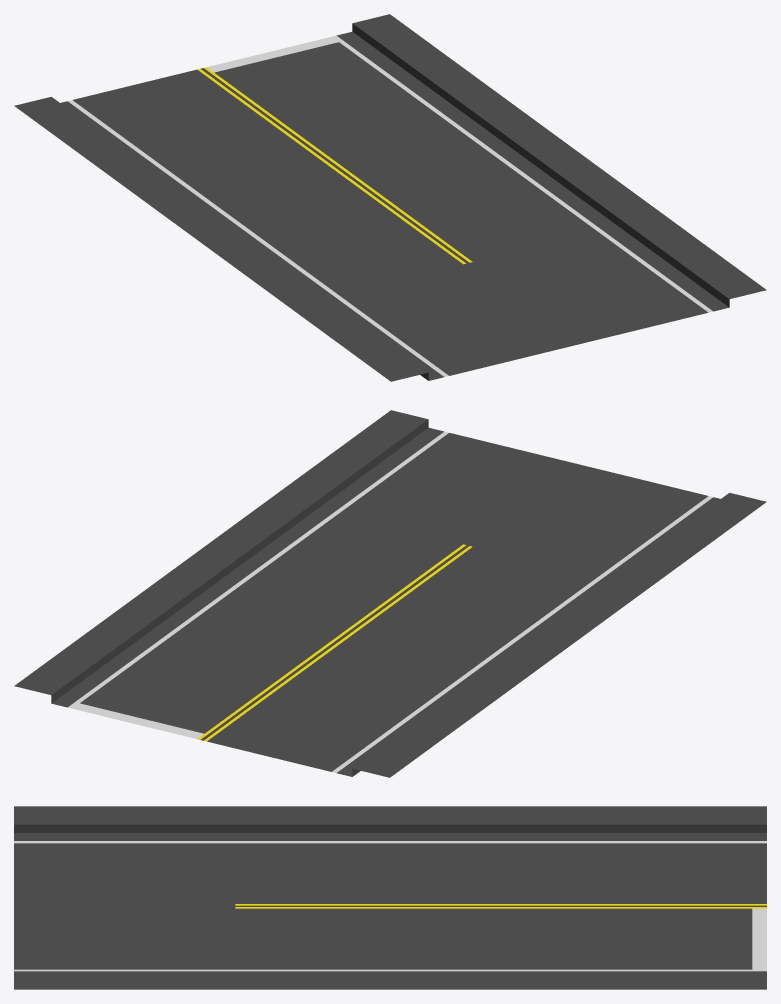
The model's file is linesroad.fbx.
3 views of the same model, one above another, from view 1: azimuth 30°, elevation 25°; view 2: azimuth 150°, elevation 25°; view 3: azimuth 270°, elevation 25° (orthographic).
Parts seen in each view (by area): view 1: Plane; view 2: Plane; view 3: Plane.
Part boxes in pixels (x1=…): Plane: x1=14, y1=14, x2=766, y2=381; Plane: x1=14, y1=410, x2=766, y2=777; Plane: x1=14, y1=806, x2=766, y2=989.
Size of the model in its own units: 1174 by 25 by 2040.
